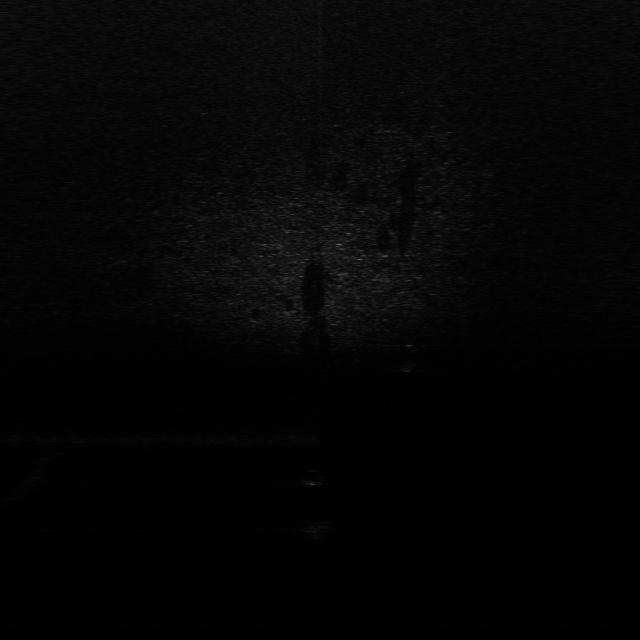ball: (298, 469, 328, 487)
square cage: (296, 518, 336, 541)
tyre: (394, 339, 420, 374)
